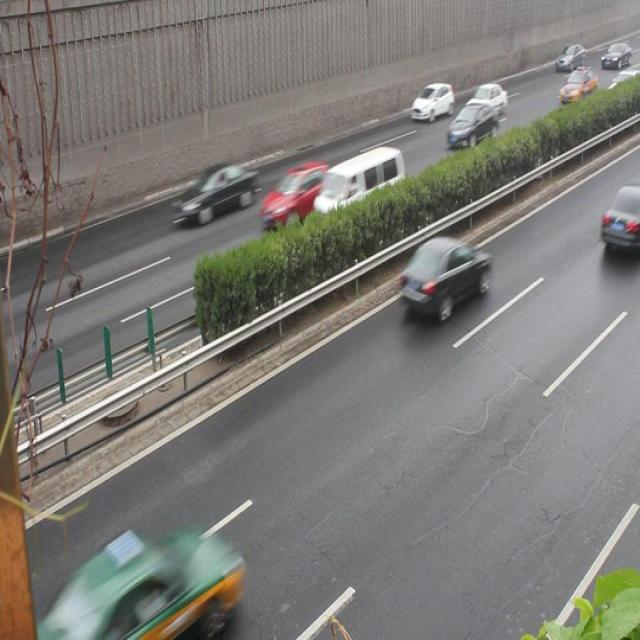car: (71, 530, 237, 640), (399, 238, 488, 320), (174, 162, 255, 226), (258, 161, 330, 228), (596, 181, 640, 251), (446, 101, 494, 149), (409, 82, 453, 124), (556, 67, 597, 106), (464, 84, 507, 119)
truck: (313, 146, 403, 227)
